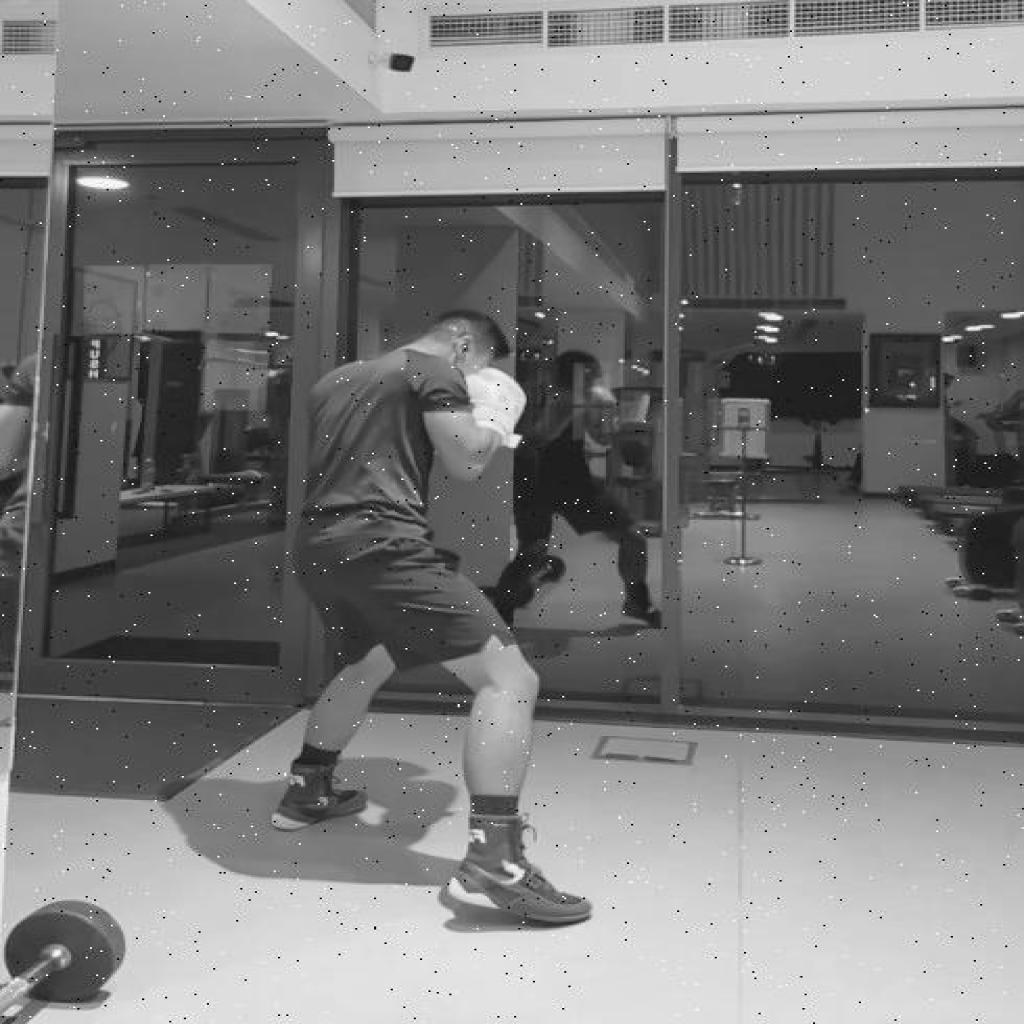no punch: (272, 302, 596, 925)
